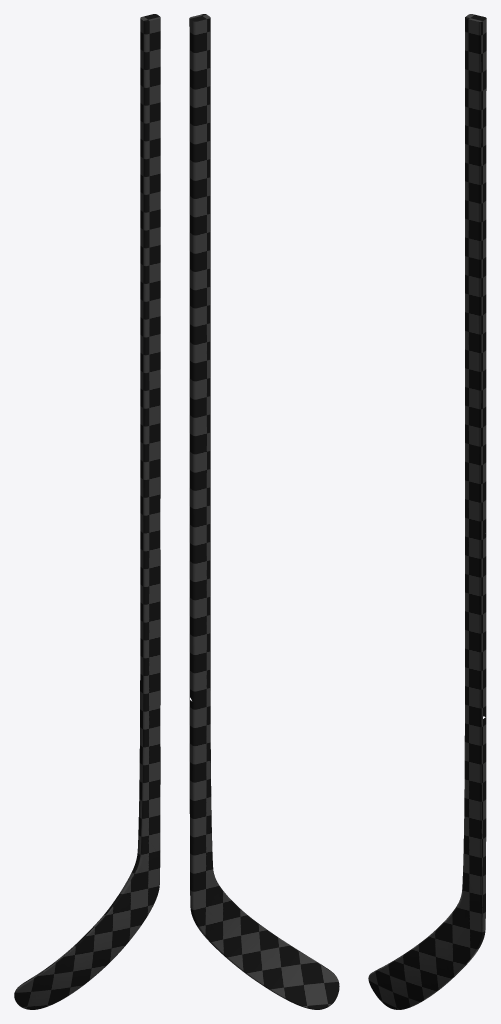
3 views of the same model, side by side, from view 1: azimuth 30°, elevation 25°; view 2: azimuth 210°, elevation 25°; view 3: azimuth 330°, elevation 25° (orthographic). The views are drawn at different scales.
Visible parts, largest first — view 1: geometry_0; view 2: geometry_0; view 3: geometry_0.
Boxes of the visible parts, <box> form: geometry_0: <box>14,14,160,1009</box>; geometry_0: <box>189,14,339,1009</box>; geometry_0: <box>368,14,486,1009</box>.
Size of the model in its own units: 224 by 1650 by 69.53.
Materials: 1 (1 with a texture image).
